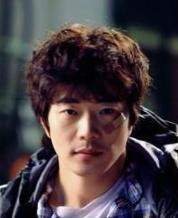face: (59, 97, 117, 160)
